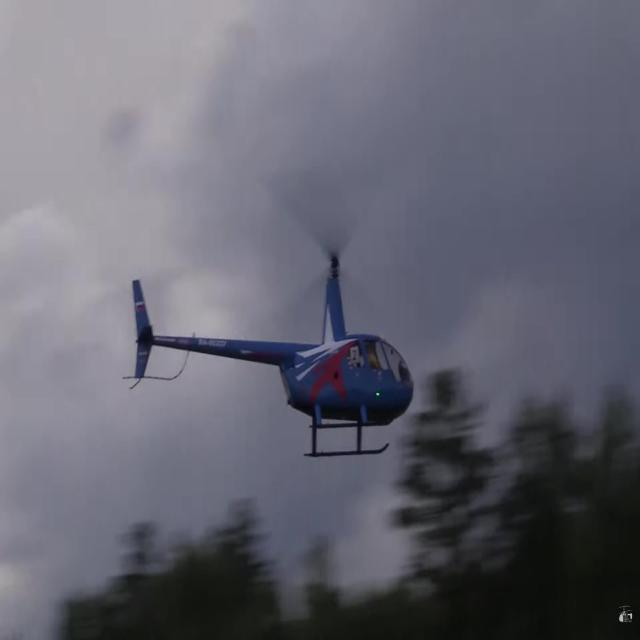CIV_HELO: (130, 244, 420, 462)
